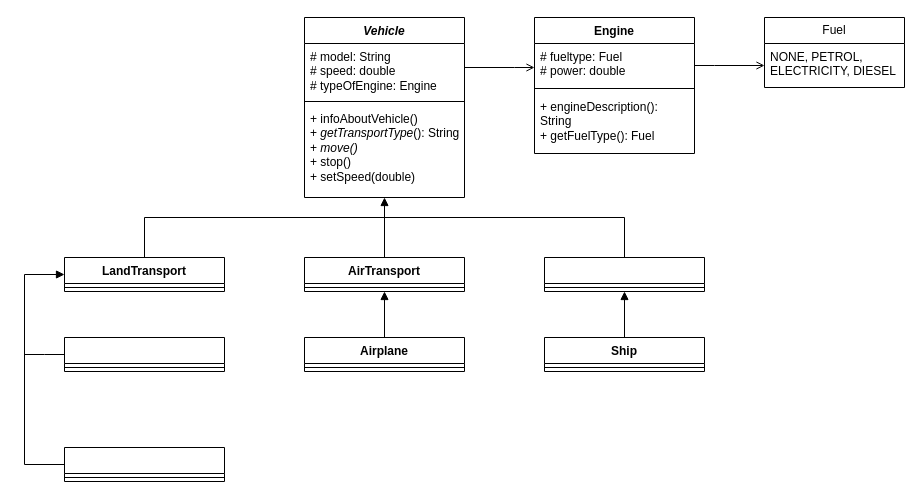
Some shapes in this 922 by 499 pixel diagram are drawn without their labels. Here are the shapes that lost their labels. From the top down, the centre of each, then its label:
At [624,274]: "WaterTransport".
At [144,354]: "Car".
At [144,464]: "Bicycle".
